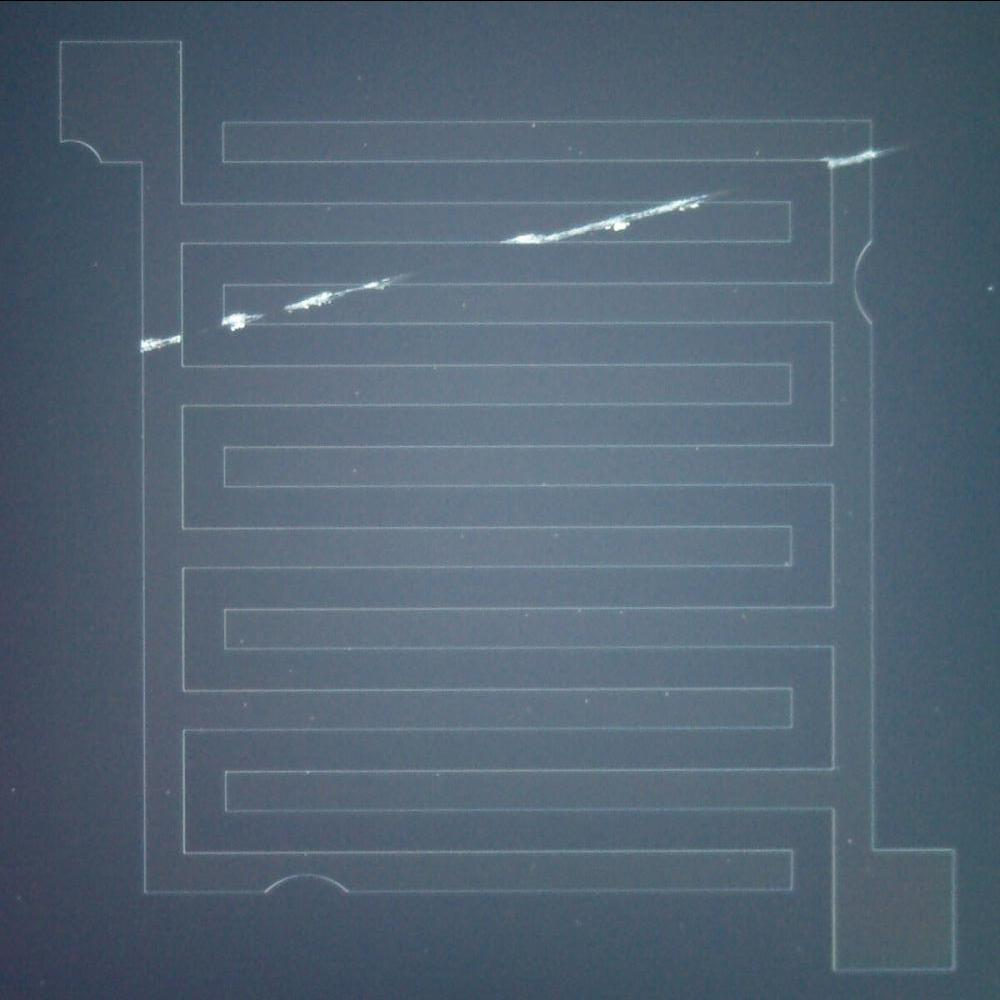curve circuit: (248, 862, 362, 909), (844, 227, 885, 337), (47, 126, 114, 170)
scratch: (133, 261, 408, 363), (490, 183, 728, 252), (816, 132, 901, 178)
